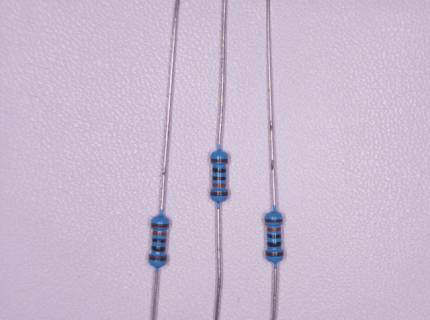Black band: (267, 233, 282, 239), (267, 241, 282, 247), (151, 246, 165, 252), (152, 238, 166, 243), (212, 168, 226, 173), (212, 176, 226, 181)
Brown band: (149, 255, 167, 262), (266, 251, 284, 257), (210, 191, 228, 196), (151, 223, 169, 228), (211, 158, 228, 163), (264, 219, 283, 223)
Orange band: (153, 230, 167, 237), (212, 183, 227, 188), (267, 227, 280, 232)
